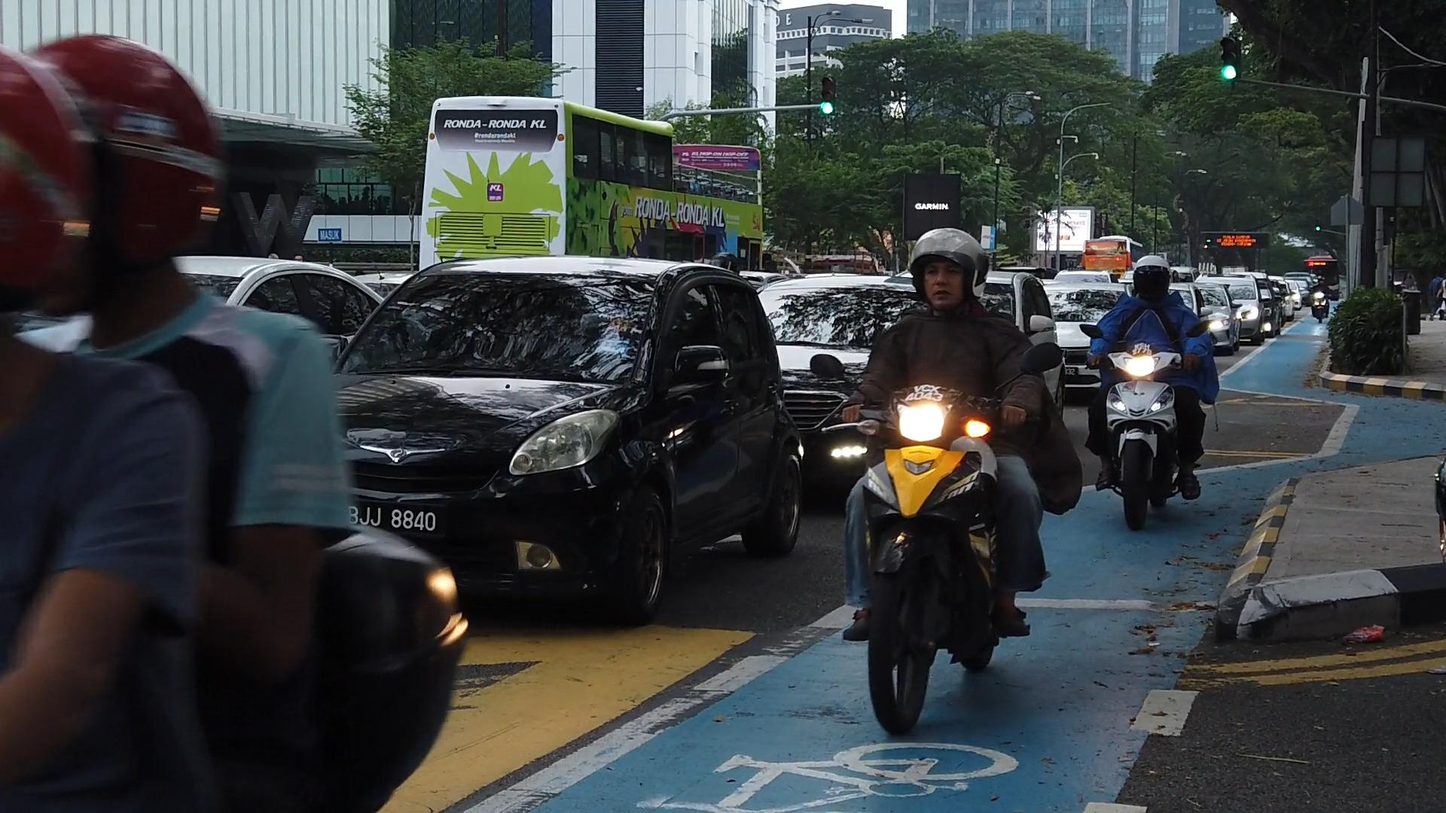driver: (808, 227, 1085, 735), (1079, 255, 1220, 532)
helmet: (32, 35, 228, 289), (0, 47, 114, 344), (907, 227, 989, 312), (1132, 254, 1172, 301)
